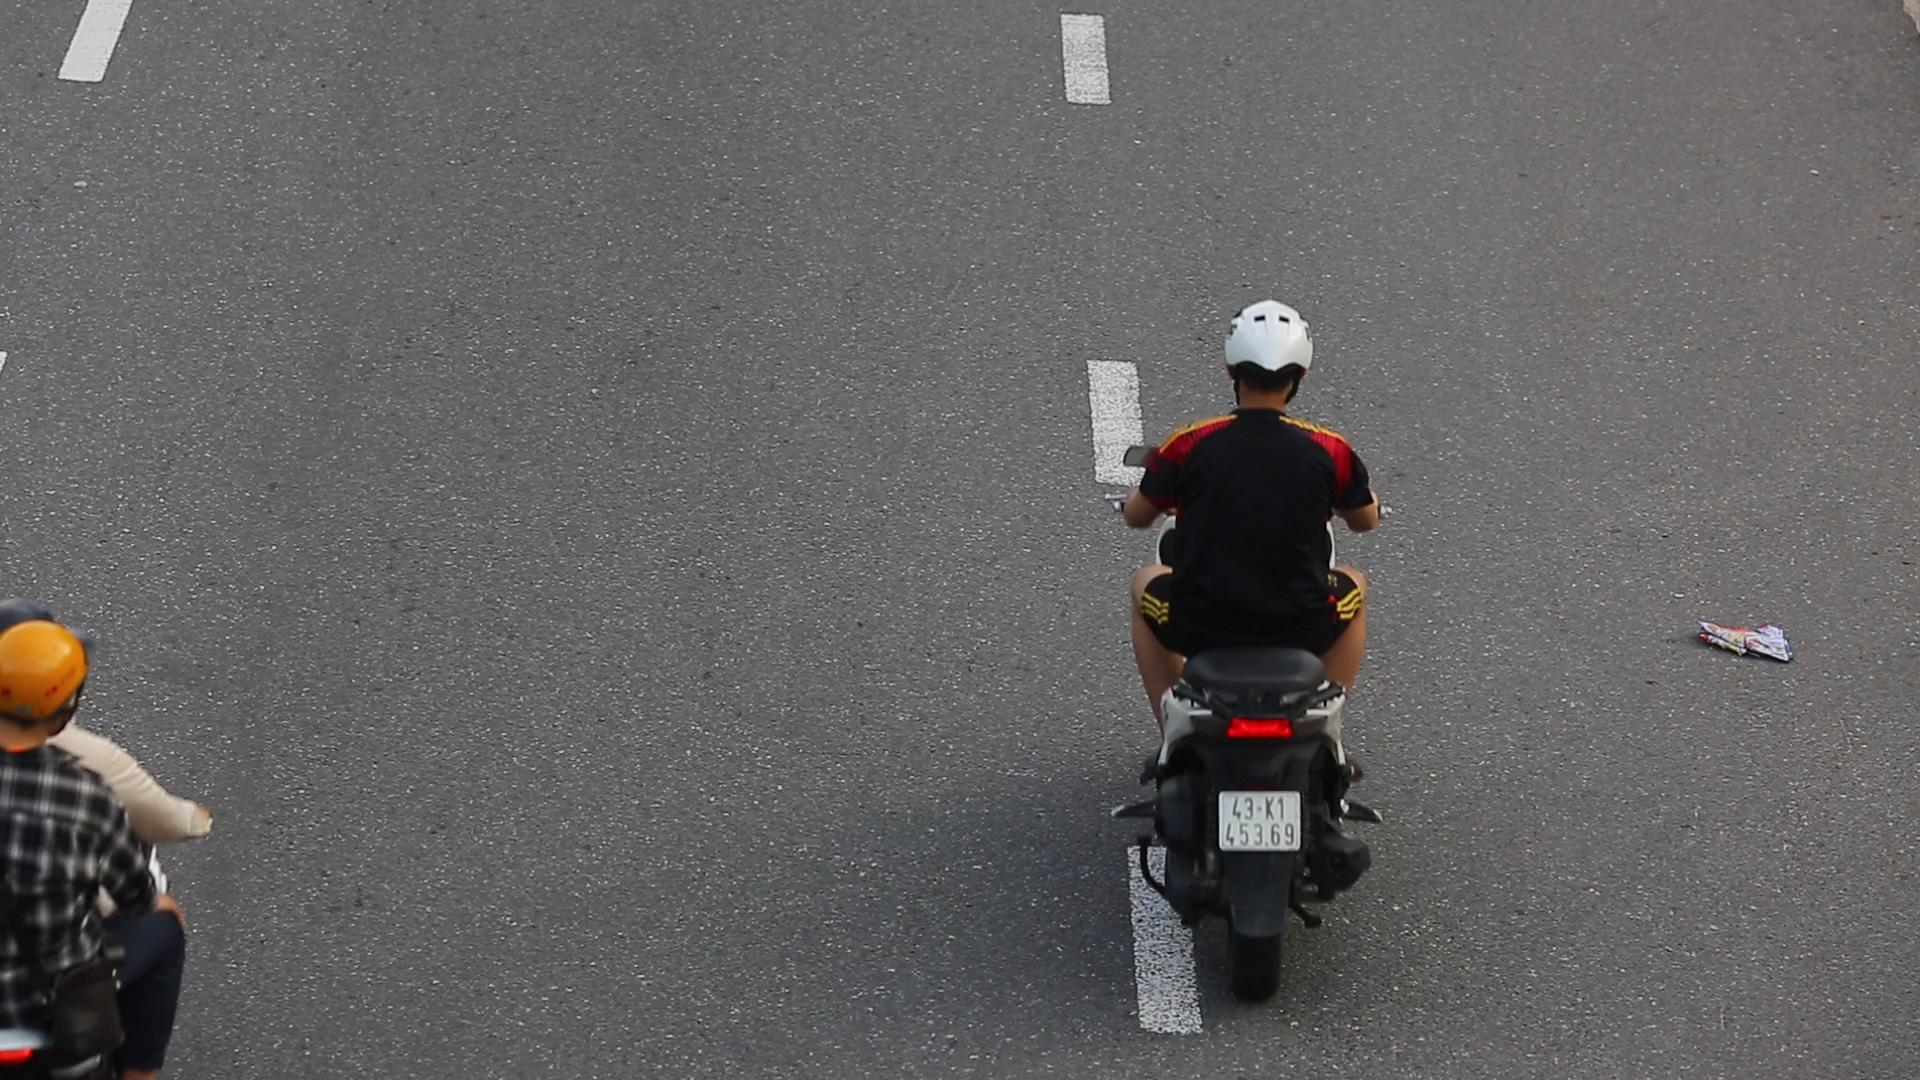motobike: (1080, 276, 1458, 1017)
